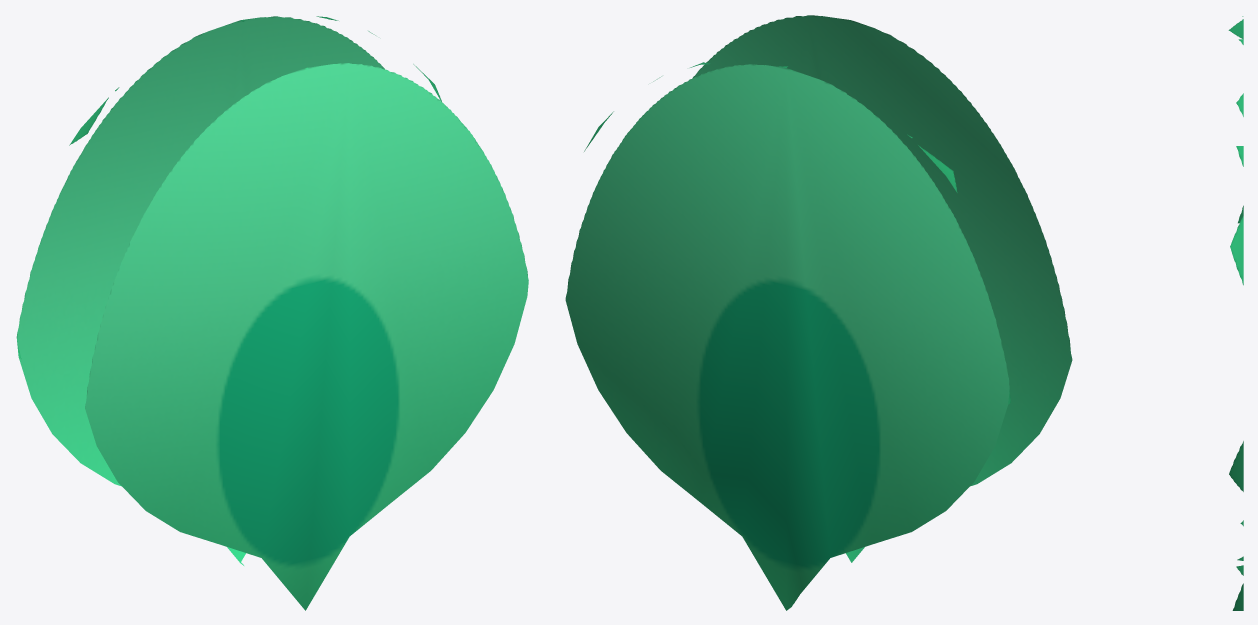
File: origin.obj
The picture shows the model from 3 angles, left to right: view 1: azimuth 30°, elevation 25°; view 2: azimuth 150°, elevation 25°; view 3: azimuth 270°, elevation 25°; orthographic projection. The views are drawn at different scales.
Parts seen in each view (by area): view 1: Cylinder; view 2: Cylinder; view 3: Cylinder.
Boxes of the visible parts, x1=… form: Cylinder: x1=16, y1=16, x2=528, y2=610; Cylinder: x1=565, y1=15, x2=1072, y2=610; Cylinder: x1=1228, y1=16, x2=1243, y2=610.
Bounding box in the file's own units: 2 × 2.29 × 0.5.
